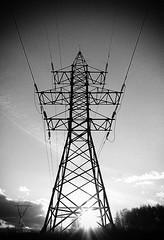power_tower: (24, 43, 143, 235)
